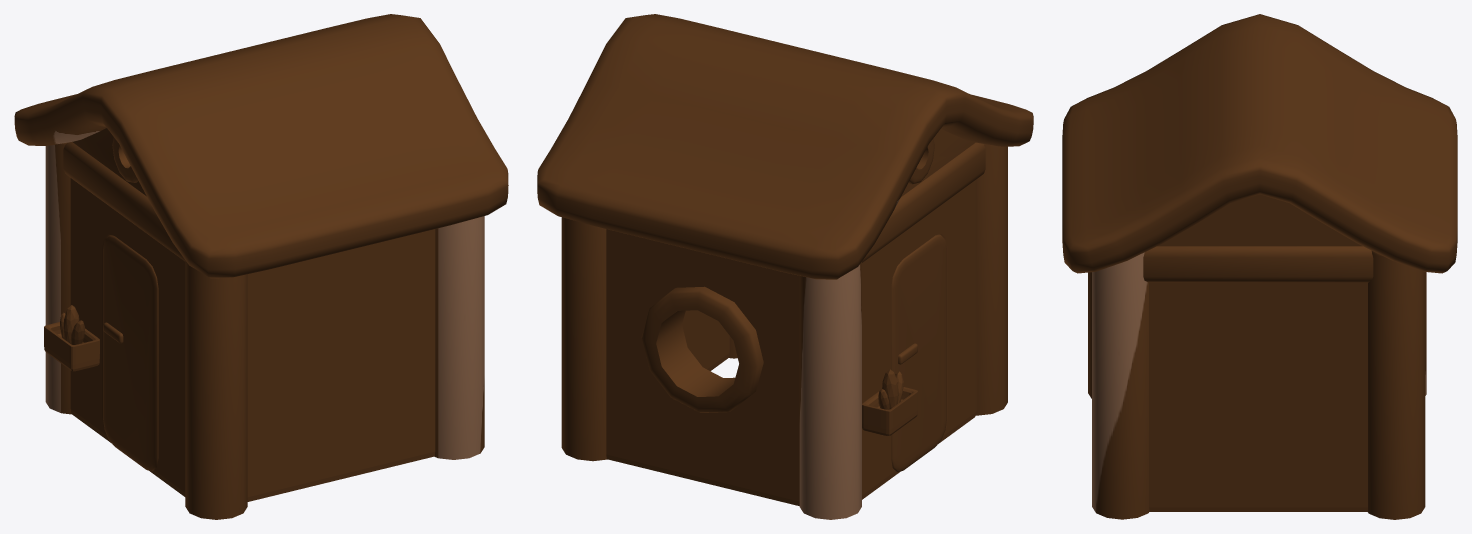
The model's file is kulube2.fbx.
The picture shows the model from 3 angles, left to right: view 1: azimuth 30°, elevation 25°; view 2: azimuth 150°, elevation 25°; view 3: azimuth 270°, elevation 25°; orthographic projection. The views are drawn at different scales.
Visible parts, largest first — view 1: Cube.043, Cube.046, Cylinder.006, Cube.050, Cylinder.002, Cube.041, Cylinder.004, Cube.008, Cube.042, Cube.010; view 2: Cube.043, Cube.049, Cylinder.004, Cube.050, Cylinder.003, Cube.041, Cylinder.007, Cylinder.006, Cube.008, Cube.006, Cube.042, Cube.010; view 3: Cube.043, Cube.006, Cylinder.003, Cylinder.002, Cube.009, Cube.015, Cylinder.006.
Boxes of the visible parts, x1,y1,x2,y2 form: Cube.043: [14, 14, 508, 278]; Cube.046: [247, 229, 435, 501]; Cylinder.006: [185, 260, 247, 519]; Cube.050: [70, 178, 185, 496]; Cylinder.002: [434, 216, 484, 459]; Cube.041: [103, 235, 158, 471]; Cylinder.004: [45, 142, 71, 414]; Cube.008: [63, 142, 185, 261]; Cube.042: [44, 322, 99, 371]; Cube.010: [72, 128, 146, 196]; Cube.043: [537, 14, 1033, 279]; Cube.049: [606, 229, 799, 505]; Cylinder.004: [799, 262, 861, 519]; Cube.050: [862, 179, 977, 499]; Cylinder.003: [561, 217, 607, 461]; Cube.041: [891, 234, 946, 472]; Cylinder.007: [641, 286, 763, 412]; Cylinder.006: [975, 144, 1007, 415]; Cube.008: [862, 142, 985, 262]; Cube.006: [682, 310, 729, 370]; Cube.042: [862, 387, 917, 436]; Cube.010: [901, 129, 975, 196]; Cube.043: [1062, 14, 1457, 273]; Cube.006: [1149, 282, 1367, 511]; Cylinder.003: [1368, 251, 1425, 519]; Cylinder.002: [1092, 252, 1149, 519]; Cube.009: [1143, 246, 1373, 282]; Cube.015: [1157, 194, 1362, 246]; Cylinder.006: [1088, 272, 1091, 398].
Bounding box in the file's own units: 3521 × 3906 × 3844.
